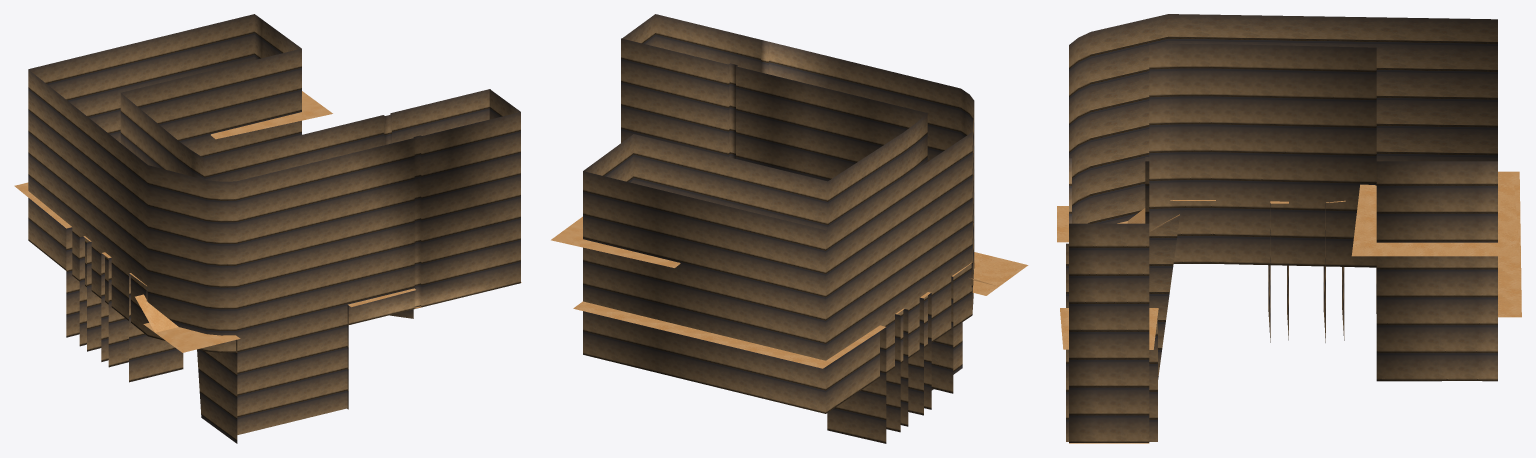
Rendered from Niveltierra.fbx.
3 renders of one model, left to right at view 1: azimuth 30°, elevation 25°; view 2: azimuth 150°, elevation 25°; view 3: azimuth 270°, elevation 25°, orthographic. The views are drawn at different scales.
Visible parts, largest first — view 1: Sueloladrillos.003, Sueloladrillos.001, Sueloladrillos.002; view 2: Sueloladrillos.003, Sueloladrillos.001, Sueloladrillos.002; view 3: Sueloladrillos.003, Sueloladrillos.002, Sueloladrillos.001.
Part boxes in pixels (x1,y1,x2,y2): Sueloladrillos.003: [28, 14, 520, 443]; Sueloladrillos.001: [14, 182, 521, 352]; Sueloladrillos.002: [211, 91, 332, 139]; Sueloladrillos.003: [583, 14, 974, 443]; Sueloladrillos.001: [573, 252, 1028, 368]; Sueloladrillos.002: [551, 216, 680, 267]; Sueloladrillos.003: [1066, 14, 1497, 442]; Sueloladrillos.002: [1351, 184, 1519, 256]; Sueloladrillos.001: [1057, 171, 1521, 443].
Size of the model in its own units: 11841 by 8604 by 10788.
